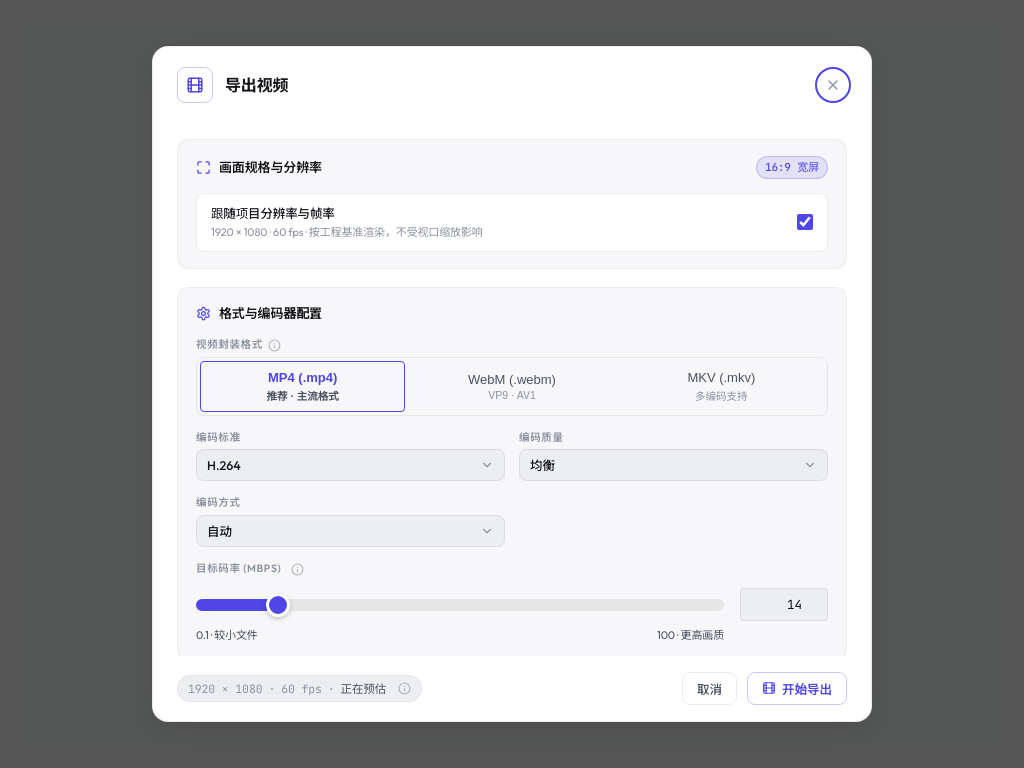
Test case: ExportDialog cancellation › uses the main bitrate by default for FFmpeg, including the export configuration
The image size is (1024, 768).
Step 1. Click the dropdown named "编码方式" → (220, 531), box x1=196 y1=515 x2=505 y2=547
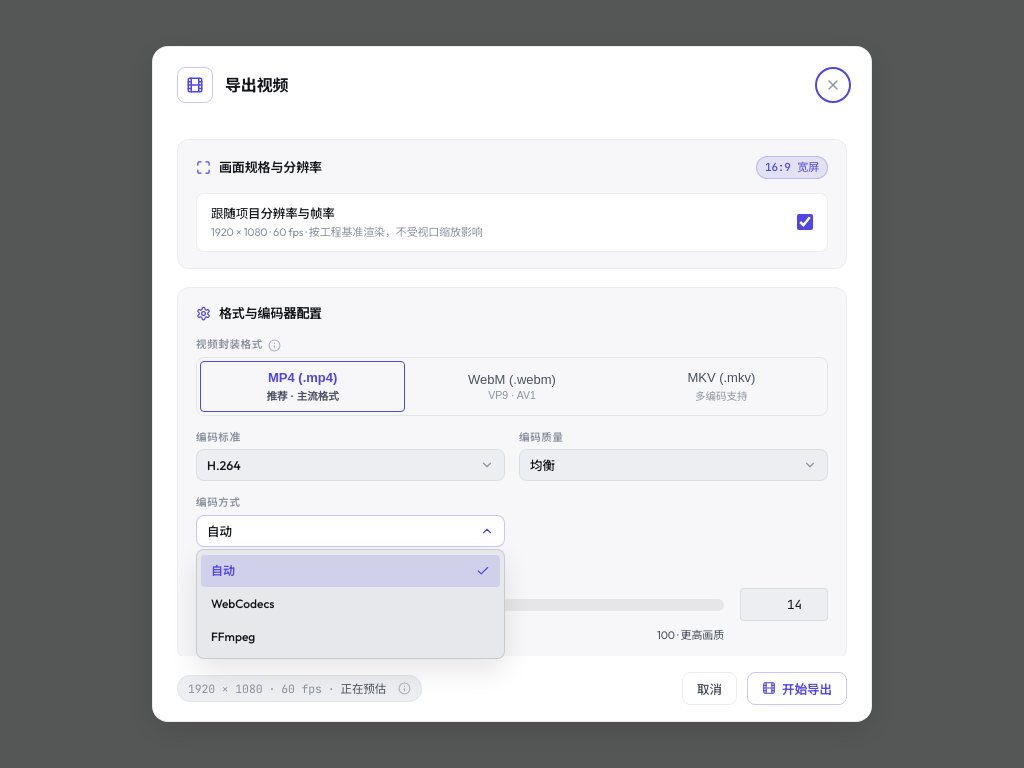
Step 2. Click the option "FFmpeg" → (233, 637), box x1=211 y1=629 x2=255 y2=644
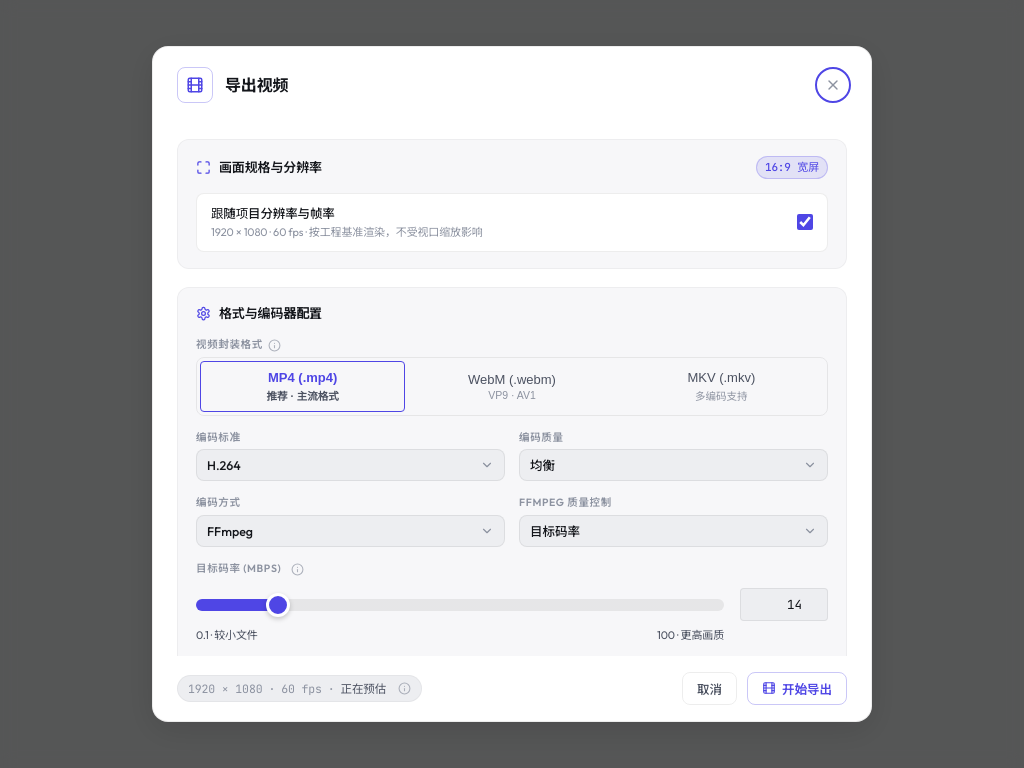
Expected: the dropdown named "FFmpeg 质量控制" reads "目标码率", x1=519 y1=515 x2=828 y2=547
Step 3. Replace the text in the number field labelled "目标码率 (Mbps)" with "12.5" → (784, 605), box x1=740 y1=588 x2=828 y2=621
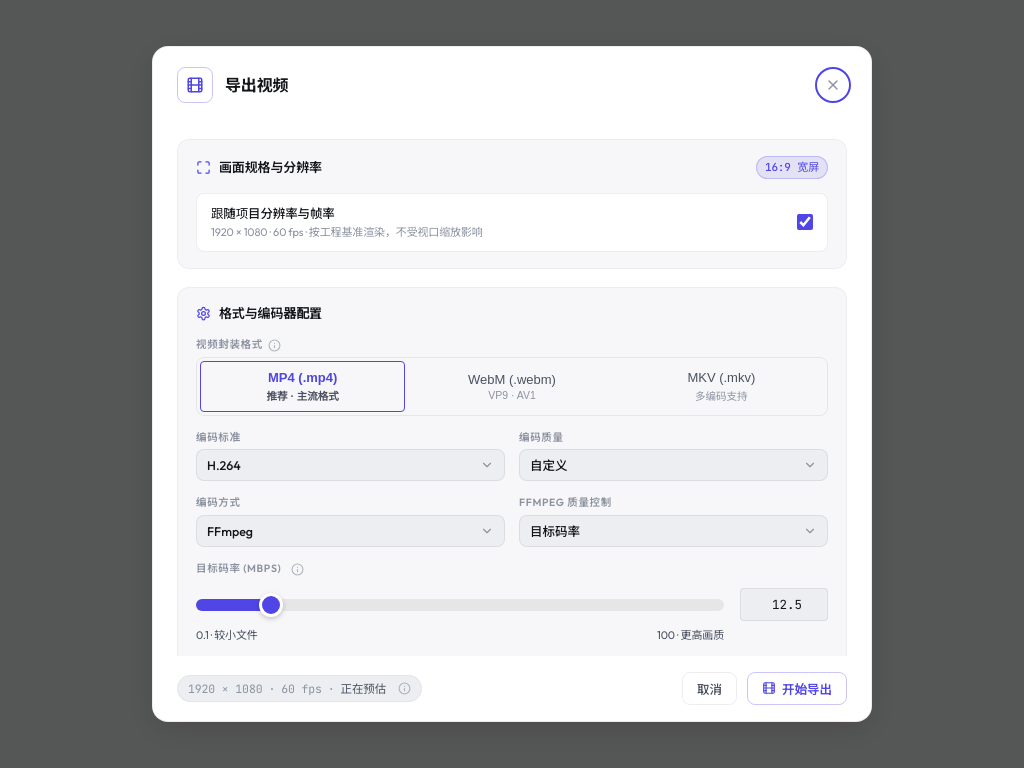
Step 4. Click the button "开始导出" → (797, 688), box x1=747 y1=672 x2=847 y2=705
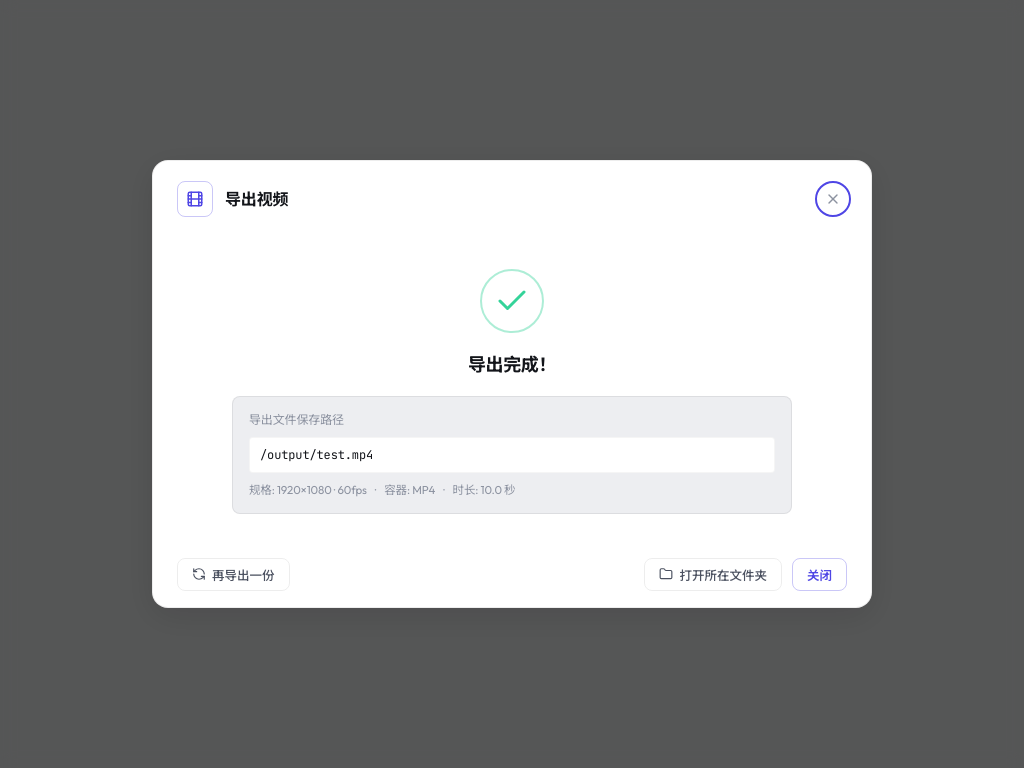
Expected: the button "关闭" is shown, x1=792 y1=558 x2=847 y2=591
